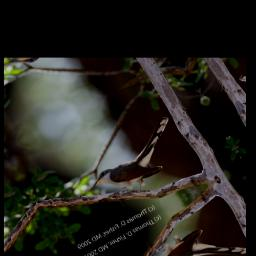Cuckoo: (74, 111, 200, 214)
